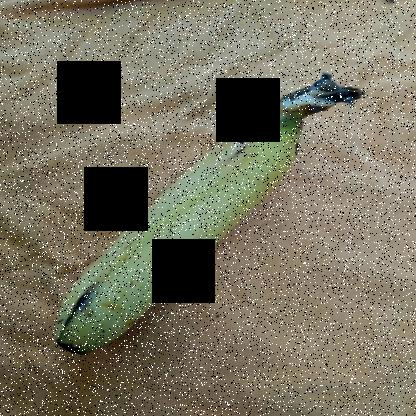ripe: (40, 124, 289, 355)
